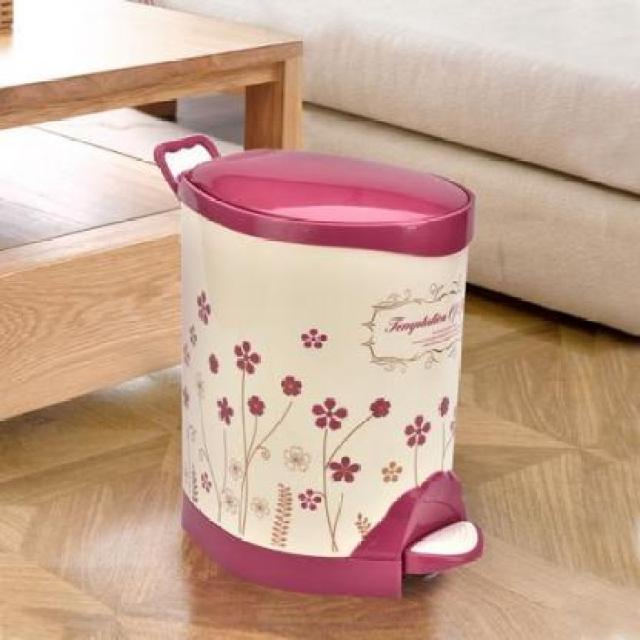dustbin: (149, 130, 487, 604)
